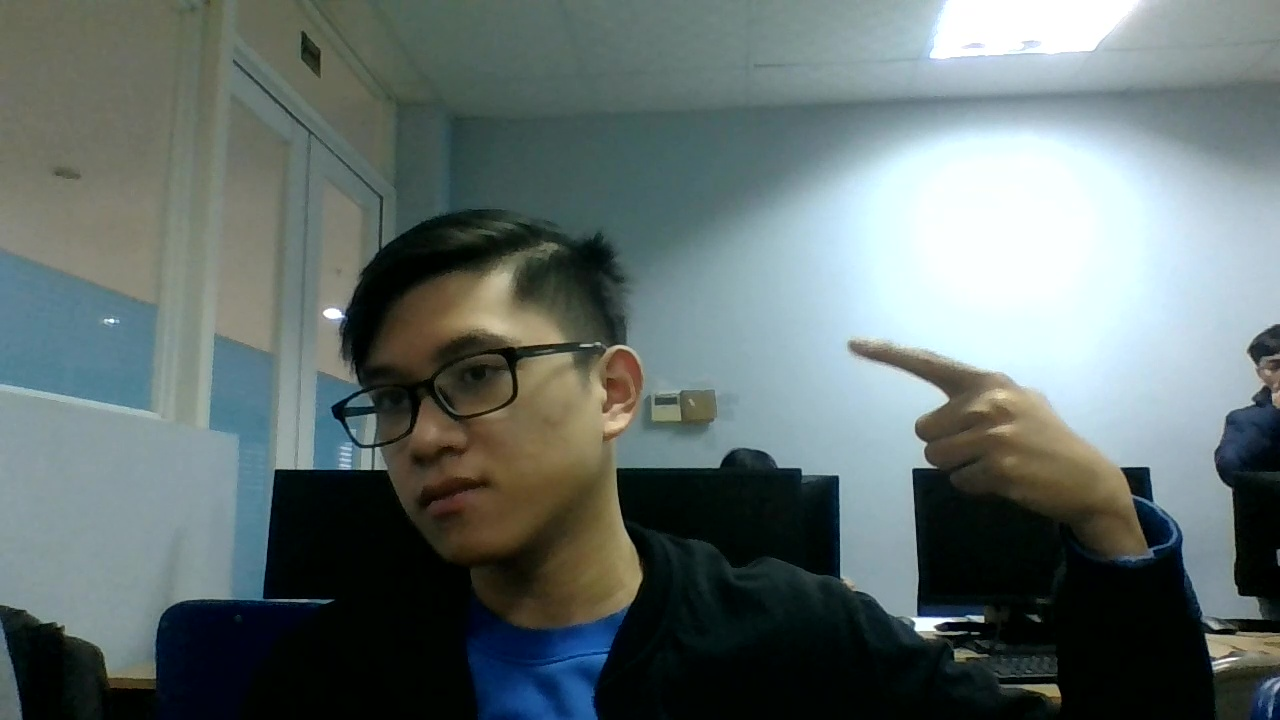right: (843, 328, 1166, 533)
